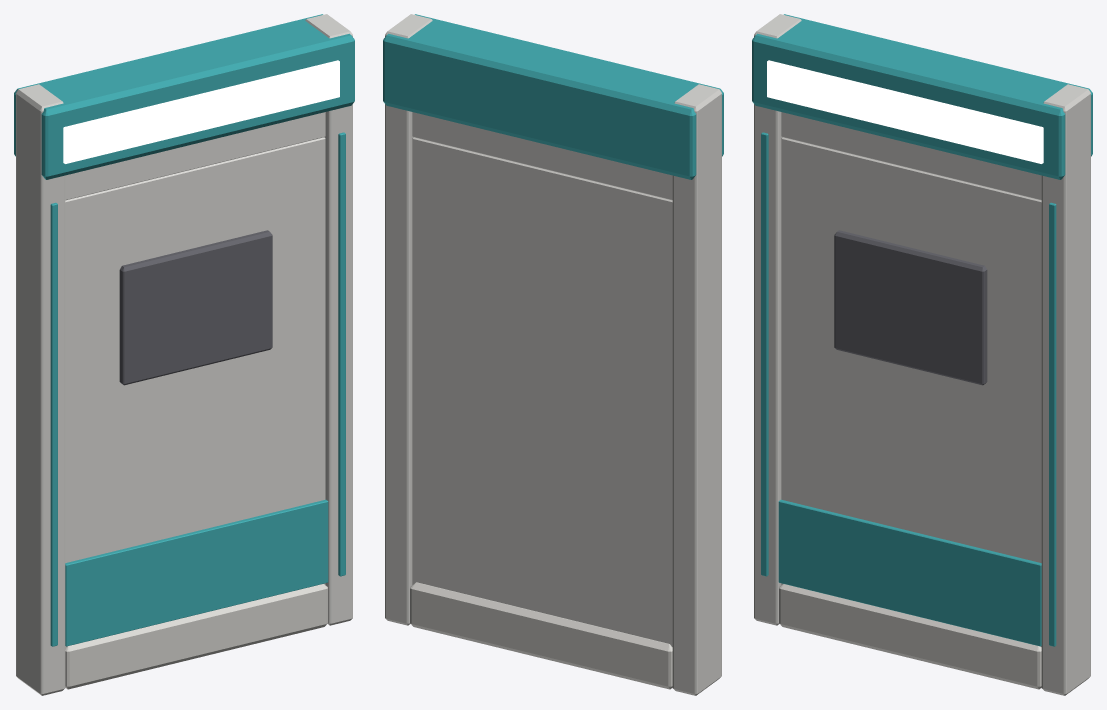
Rendered from motorway-services-and-truck-park-facade-bay-solid-effb5eba__35929.glb.
3 views of the same model, side by side, from view 1: azimuth 30°, elevation 25°; view 2: azimuth 150°, elevation 25°; view 3: azimuth 330°, elevation 25° (orthographic).
Parts seen in each view (by area): view 1: facade-bay-solid; view 2: facade-bay-solid; view 3: facade-bay-solid.
Part boxes in pixels (box(x1,y1,x2,y2)): facade-bay-solid: box(14, 14, 354, 695); facade-bay-solid: box(383, 14, 723, 695); facade-bay-solid: box(752, 14, 1092, 695).
Size of the model in its own units: 2 by 3.6 by 0.3819.
